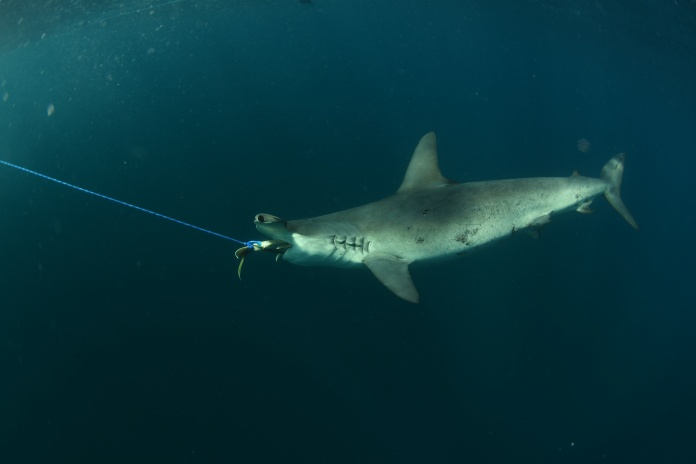Hammer: (214, 116, 638, 327)
